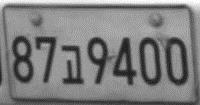0: (164, 36, 188, 86), (139, 36, 162, 86)
4: (111, 37, 137, 86)
7: (35, 36, 57, 83)
8: (10, 34, 34, 83)
9: (86, 36, 108, 84)
고: (60, 45, 84, 85)
